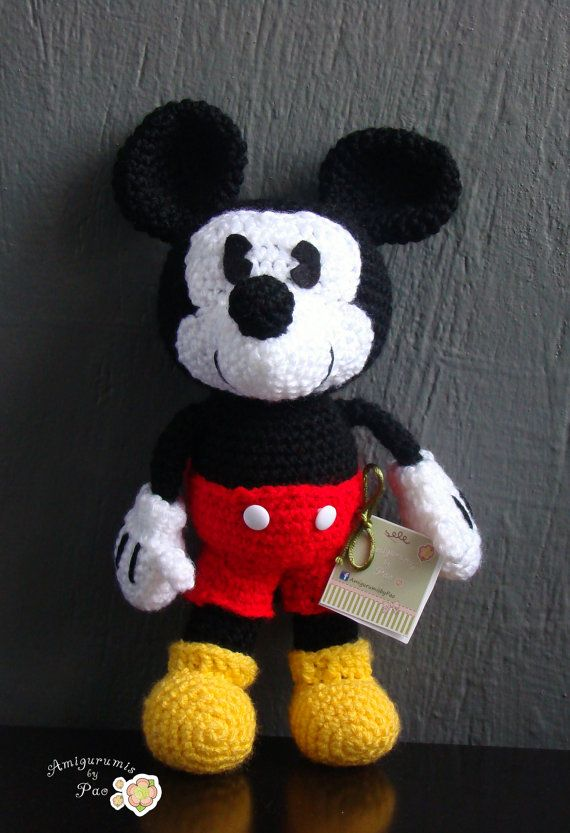Mickey: (118, 84, 463, 408)
